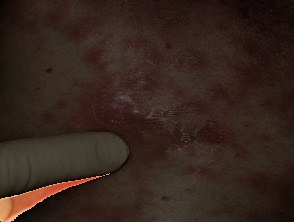SJS-TEN: (4, 0, 294, 193)
